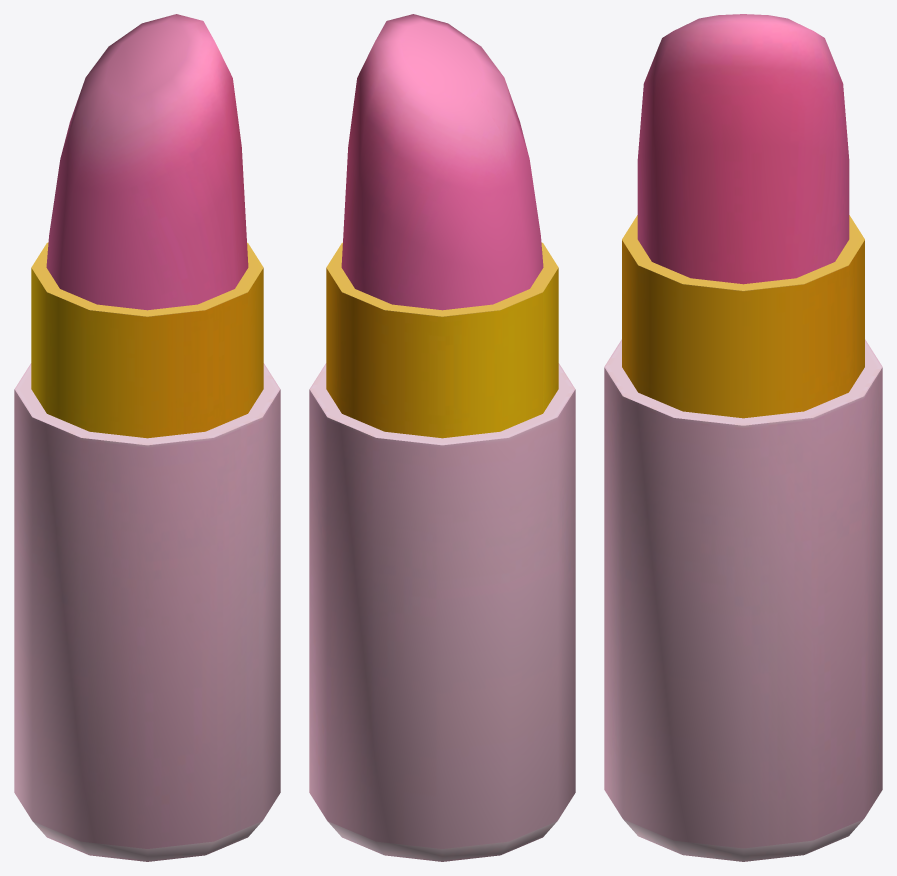
The model's file is lipstick.fbx.
The picture shows the model from 3 angles, left to right: view 1: azimuth 30°, elevation 25°; view 2: azimuth 150°, elevation 25°; view 3: azimuth 270°, elevation 25°; orthographic projection. The views are drawn at different scales.
Visible parts, largest first — view 1: lipstick; view 2: lipstick; view 3: lipstick.
Boxes of the visible parts, x1,y1,x2,y2 form: lipstick: [14, 14, 280, 861]; lipstick: [309, 14, 575, 861]; lipstick: [604, 14, 882, 861].
Bounding box in the file's own units: 0.1051 × 0.3392 × 0.1051.
1 material, 1 textured.
